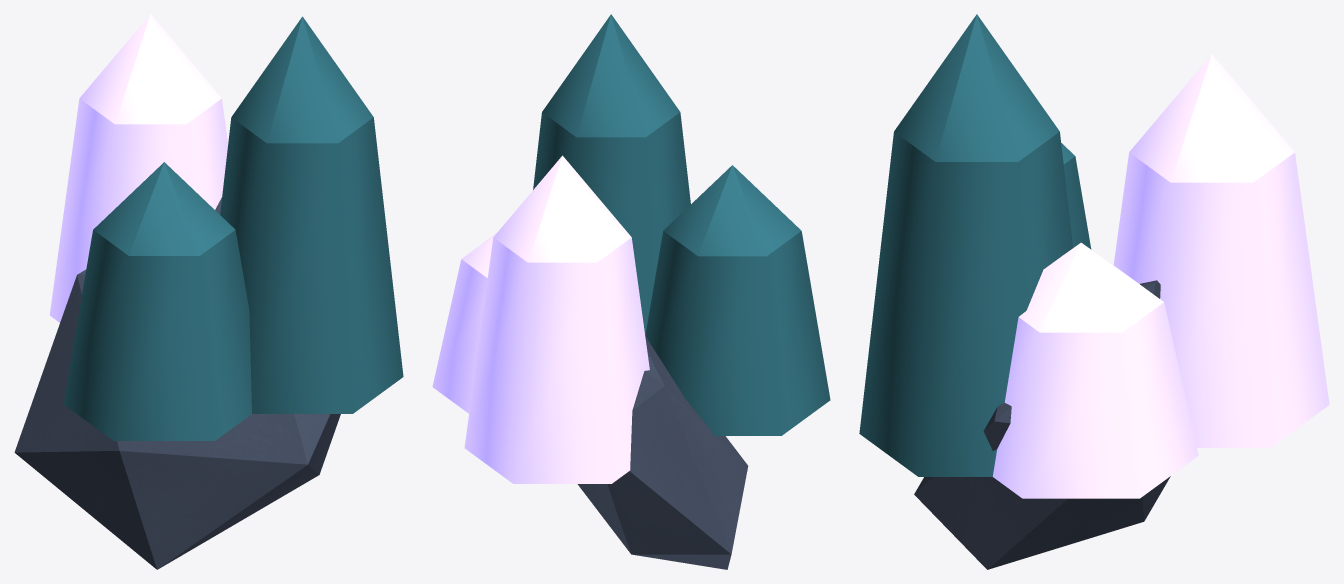
The model's file is crystal-cluster.glb.
3 views of the same model, side by side, from view 1: azimuth 30°, elevation 25°; view 2: azimuth 150°, elevation 25°; view 3: azimuth 270°, elevation 25° (orthographic). The views are drawn at different scales.
Parts seen in each view (by area): view 1: CrystalCluster_teal, CrystalCluster_stone, CrystalCluster_rune; view 2: CrystalCluster_teal, CrystalCluster_rune, CrystalCluster_stone; view 3: CrystalCluster_rune, CrystalCluster_teal, CrystalCluster_stone.
Part boxes in pixels (box(x1,y1,x2,y2)): CrystalCluster_teal: box(63, 16, 403, 440); CrystalCluster_stone: box(14, 197, 340, 569); CrystalCluster_rune: box(49, 14, 228, 322); CrystalCluster_teal: box(533, 14, 830, 435); CrystalCluster_rune: box(432, 155, 649, 483); CrystalCluster_stone: box(577, 334, 748, 569); CrystalCluster_rune: box(992, 54, 1329, 498); CrystalCluster_teal: box(859, 14, 1091, 476); CrystalCluster_stone: box(914, 280, 1170, 569).
Bounding box in the file's own units: 0.6246 × 0.9859 × 0.6801.
3 materials, 1 textured.
